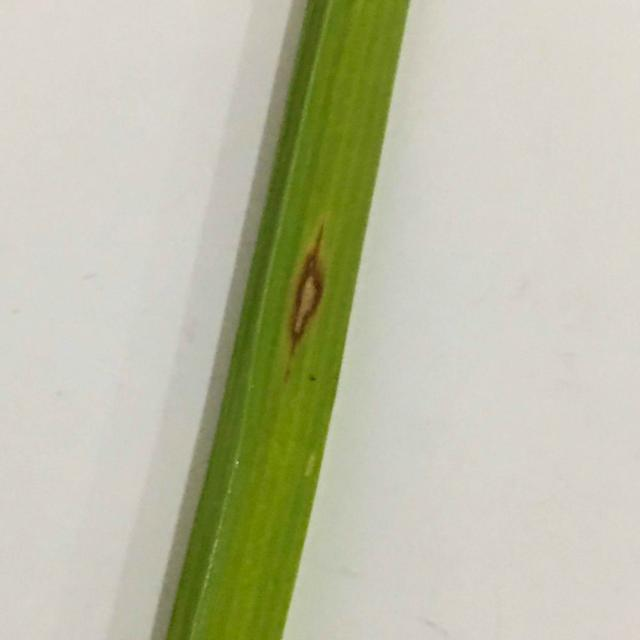Blast: (290, 267, 318, 349)
